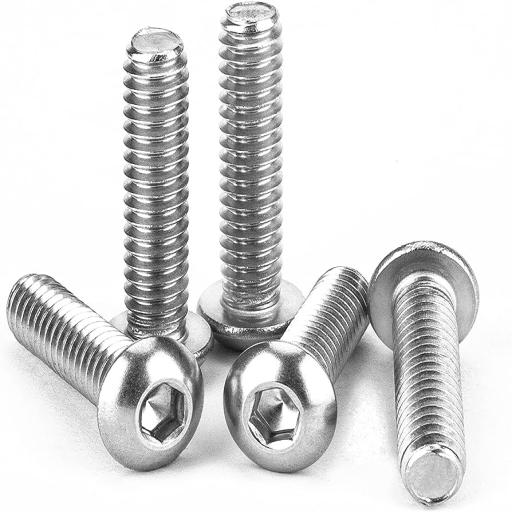Hex-Allen: (223, 340, 339, 475), (98, 339, 204, 477)
